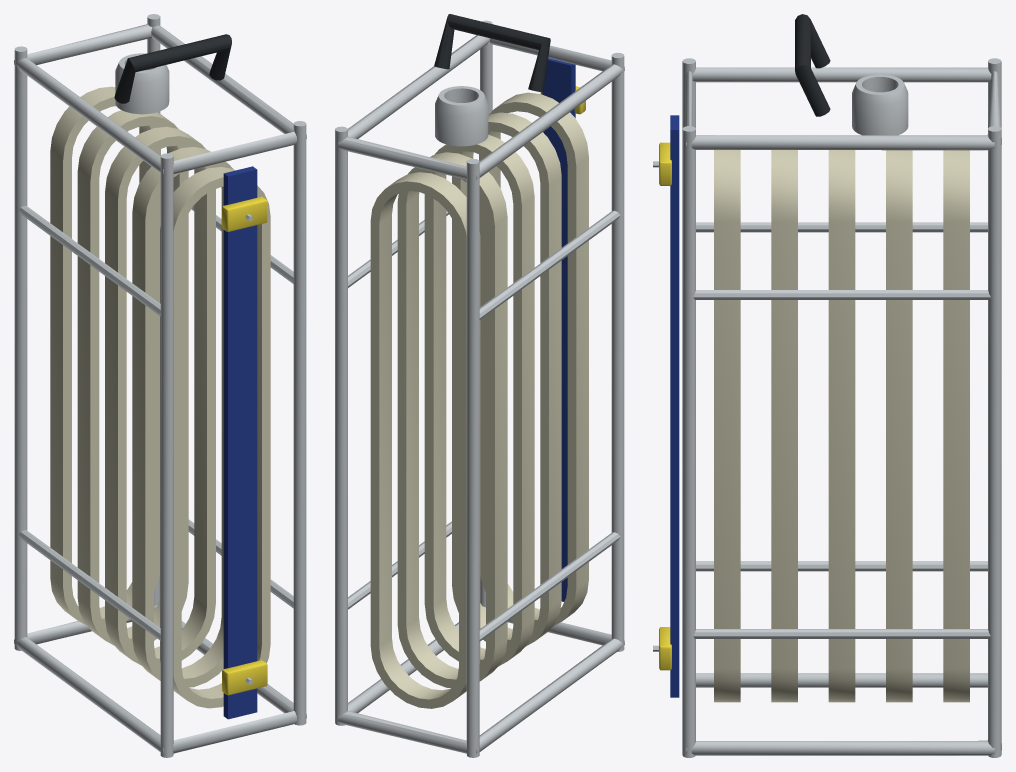
Rendered from hose_basket_4.glb.
3 views of the same model, side by side, from view 1: azimuth 30°, elevation 25°; view 2: azimuth 150°, elevation 25°; view 3: azimuth 270°, elevation 25° (orthographic). The views are drawn at different scales.
Parts seen in each view (by area): view 1: hose_basket_4; view 2: hose_basket_4; view 3: hose_basket_4.
Boxes of the visible parts, x1,y1,x2,y2 form: hose_basket_4: (14,14,306,757); hose_basket_4: (335,14,624,757); hose_basket_4: (653,14,1001,757).
Bounding box in the file's own units: 0.2167 × 0.936 × 0.4342.
